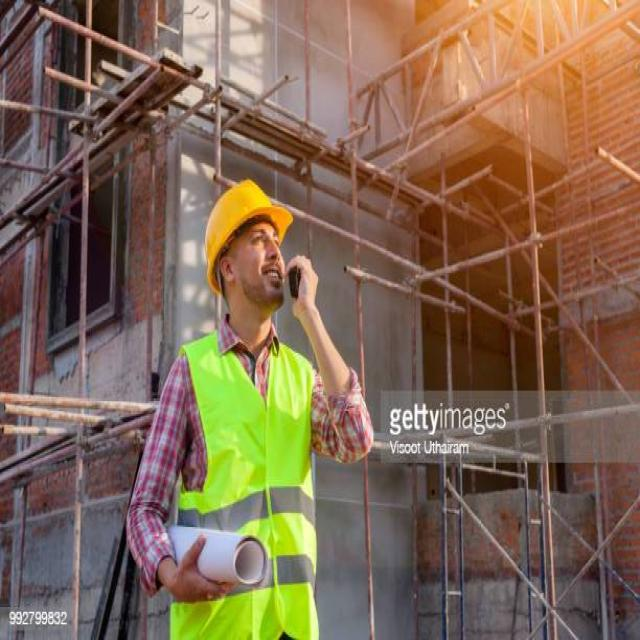helmet: (203, 180, 297, 290)
no-goggles: (221, 219, 294, 264)
vest: (165, 332, 324, 640)
